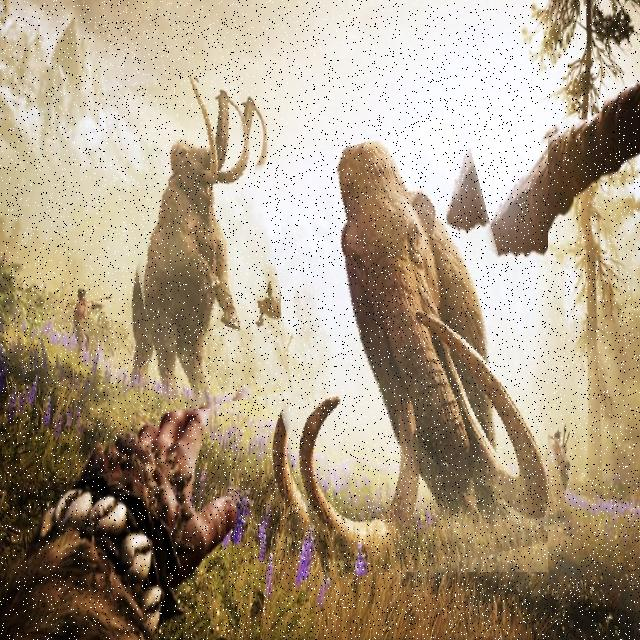elephant: (244, 123, 548, 572), (114, 71, 281, 409)
